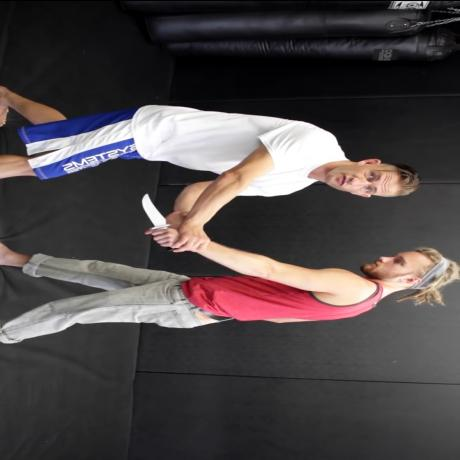1: (0, 84, 423, 252), (0, 226, 460, 344)
weapon: (140, 192, 170, 228)
